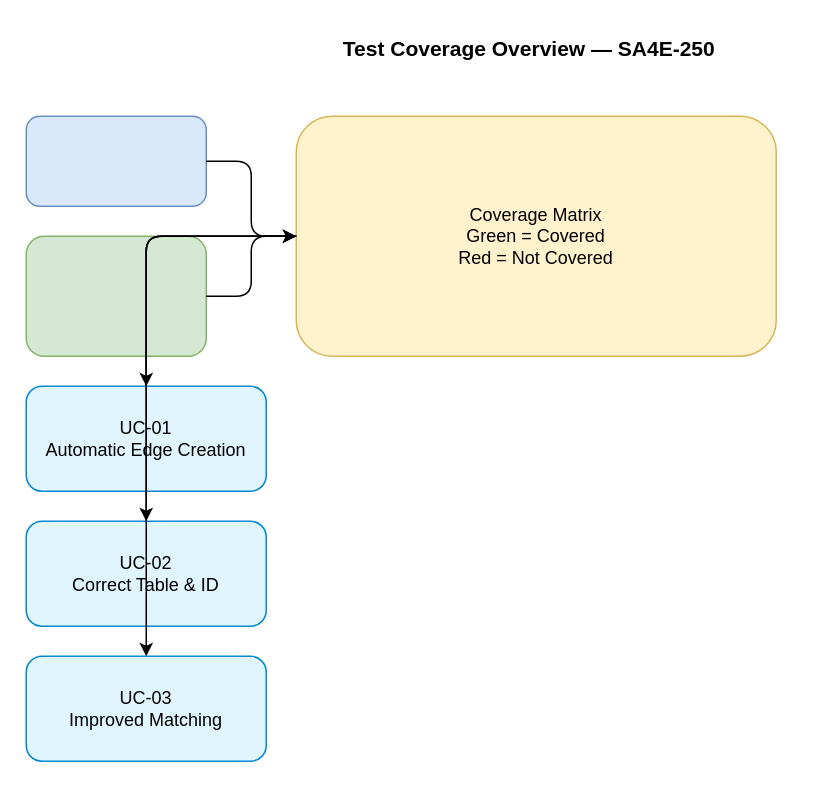
The diagram is 818 pixels wide and 788 high, and some of its shapes have lost their labels. The box of each missing label's shape, as (x1, y1, x2, y2) in pixels:
Requirements: (25, 115, 206, 206)
Test Levels PBT / UT / IT / E2E-API / E2E-UI / SIT: (25, 235, 206, 356)
